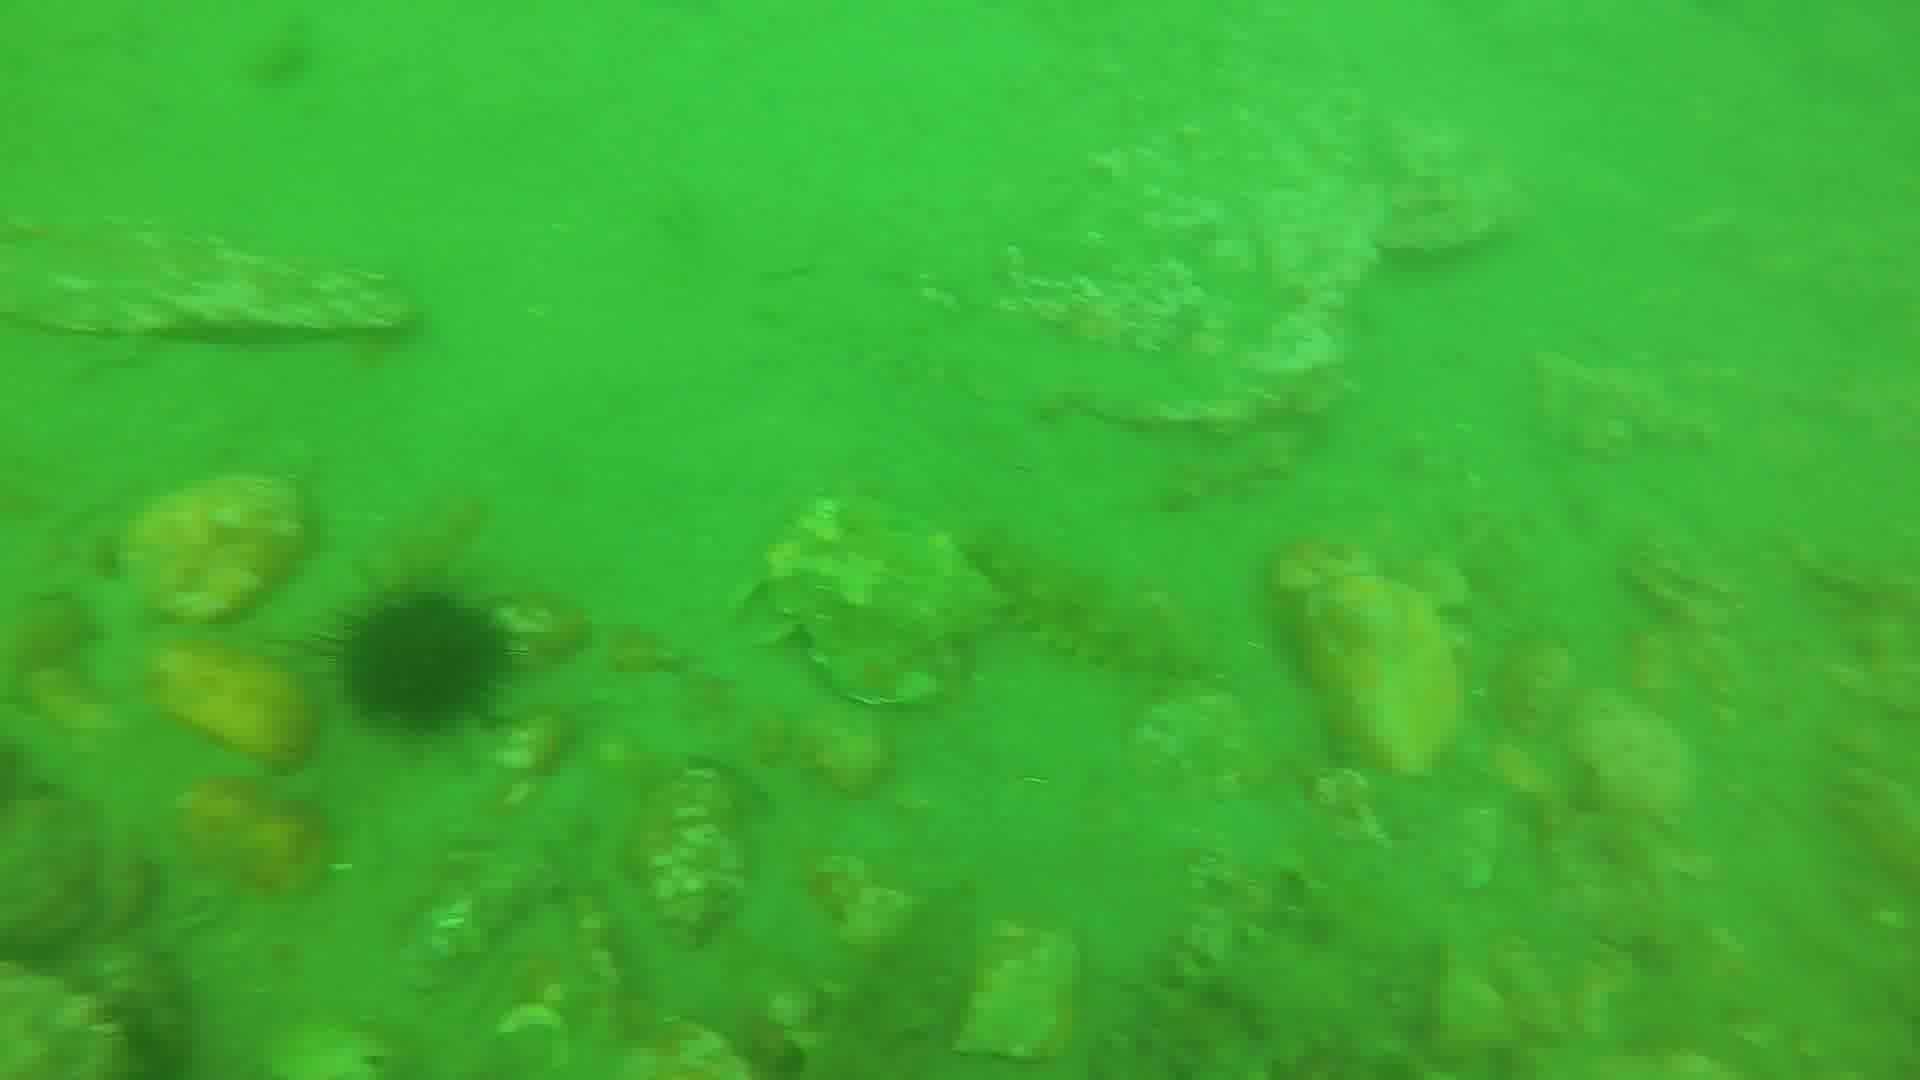echinus: (328, 580, 514, 737)
holothurian: (1102, 911, 1505, 1076), (961, 521, 1207, 687), (791, 884, 982, 1079)
